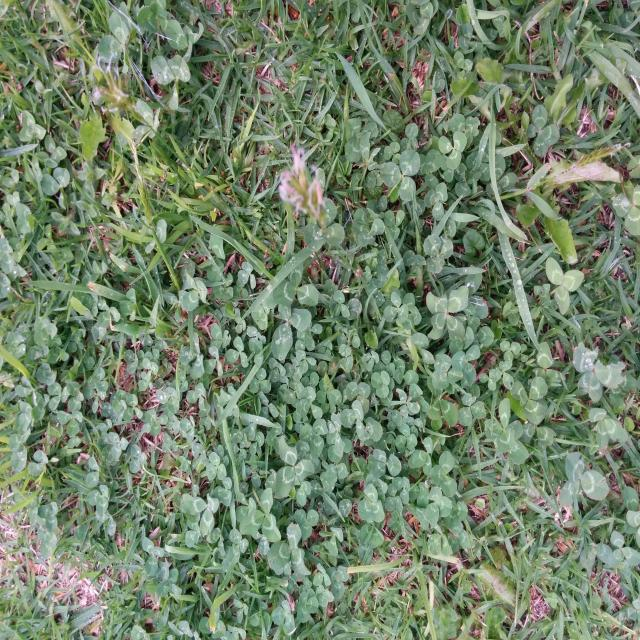Four Leaf Clover: (426, 285, 469, 342), (526, 104, 560, 157)
